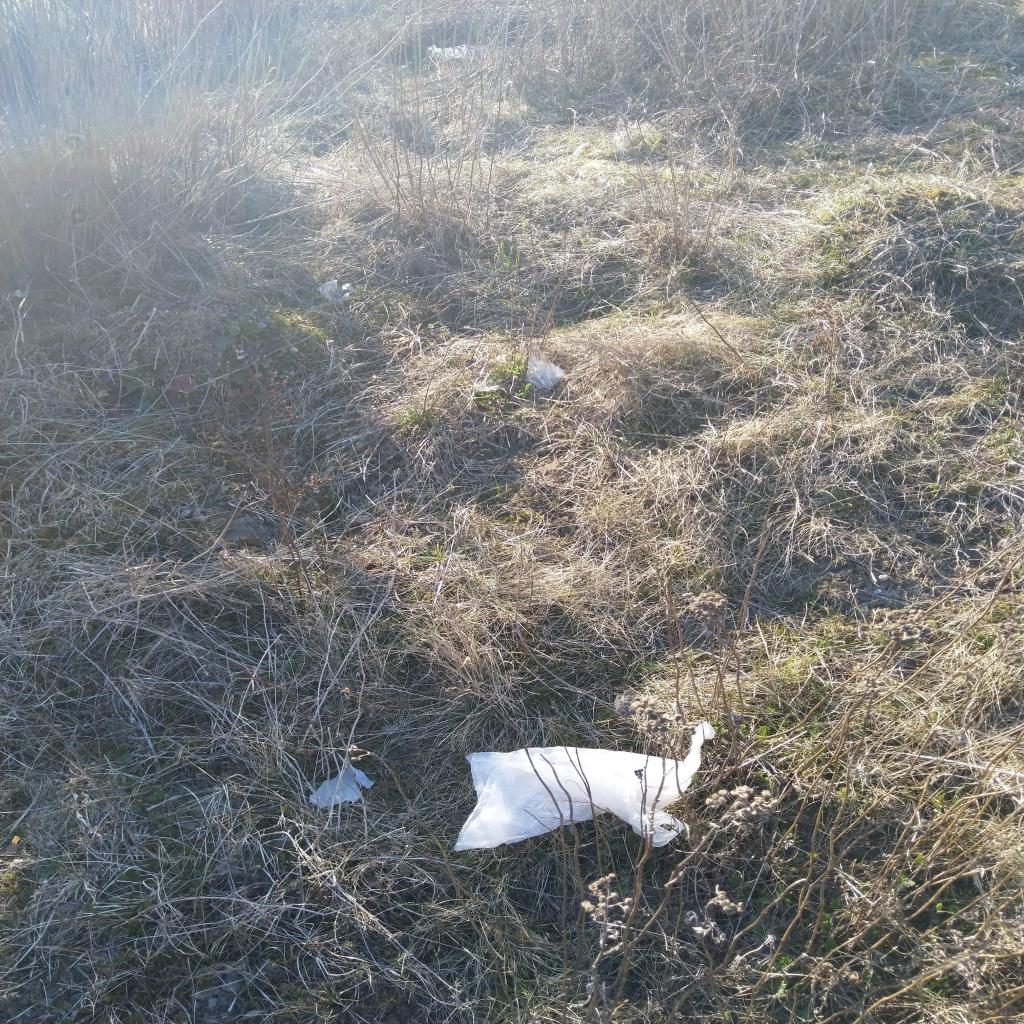Plastic film: (310, 760, 372, 806), (524, 343, 564, 392), (316, 280, 358, 302)
Single-use carrier bag: (455, 720, 715, 851)
Unlabeled litter: (431, 43, 481, 58)
